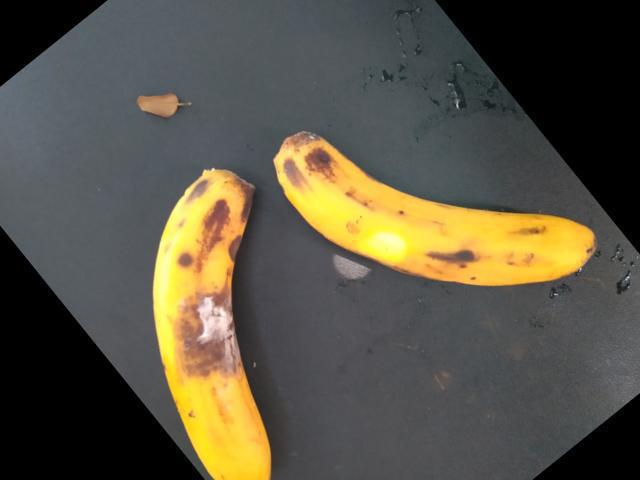ripe: (277, 106, 602, 323)
rotten: (139, 156, 281, 479)
